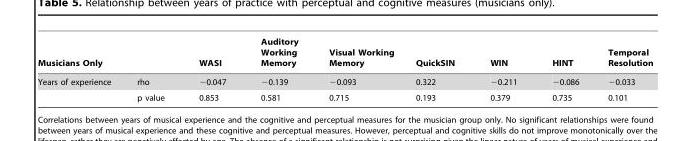table: (37, 37, 652, 101)
table column: (312, 37, 404, 101), (37, 37, 123, 101), (242, 37, 312, 101), (404, 37, 471, 101), (471, 37, 534, 101), (181, 37, 242, 101), (592, 37, 652, 101), (123, 37, 181, 101), (534, 37, 592, 101)
table column header: (37, 37, 652, 72)
table row: (37, 37, 652, 72), (37, 72, 652, 89), (37, 89, 652, 101)
table spanning cell: (37, 72, 123, 101)
